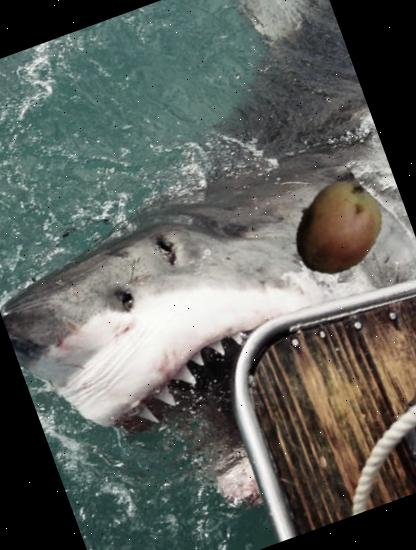Papaya: (272, 164, 401, 294)
